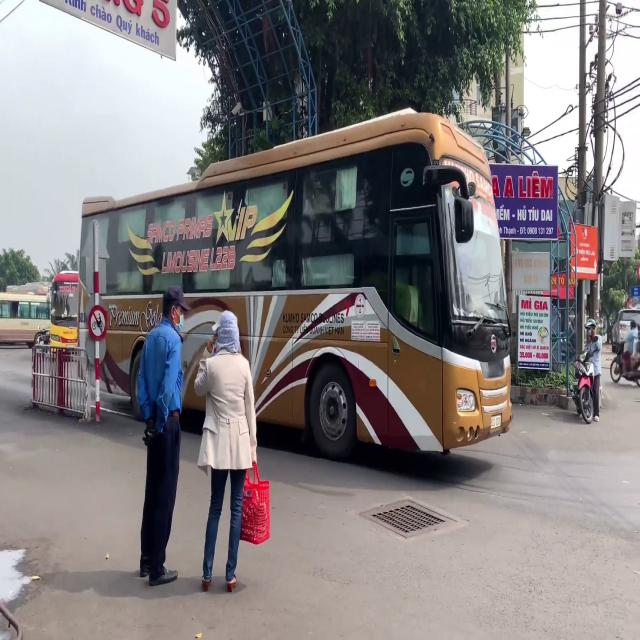bien_trang: (490, 414, 502, 430)
